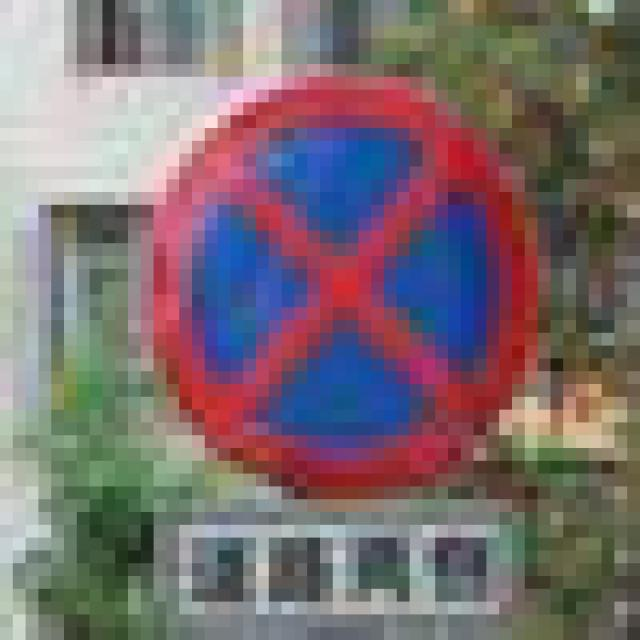no_parking: (128, 64, 525, 474)
